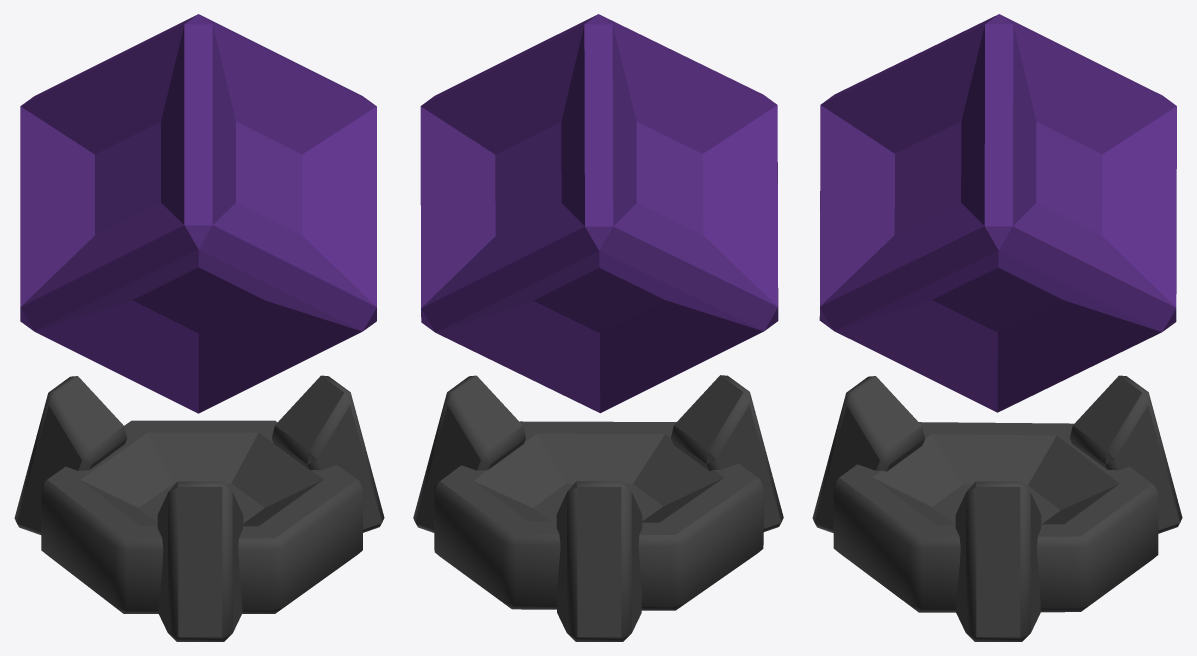
3 renders of one model, left to right at view 1: azimuth 30°, elevation 25°; view 2: azimuth 150°, elevation 25°; view 3: azimuth 270°, elevation 25°, orthographic.
Parts seen in each view (by area): view 1: Cube, Base; view 2: Cube, Base; view 3: Cube, Base.
Boxes of the visible parts, x1=… form: Cube: x1=20, y1=14, x2=376, y2=413; Base: x1=14, y1=375, x2=384, y2=641; Cube: x1=420, y1=14, x2=778, y2=413; Base: x1=413, y1=375, x2=783, y2=641; Cube: x1=819, y1=14, x2=1176, y2=412; Base: x1=812, y1=375, x2=1182, y2=641.
Bounding box in the file's own units: 8999 × 12983 × 8083.
